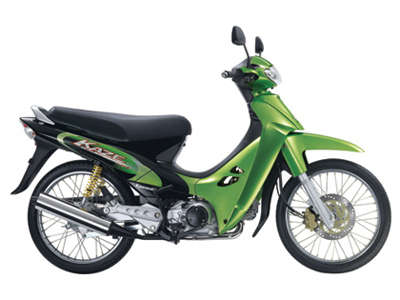motorcycle: (19, 53, 391, 274)
